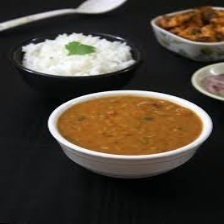rice: (20, 30, 136, 78)
